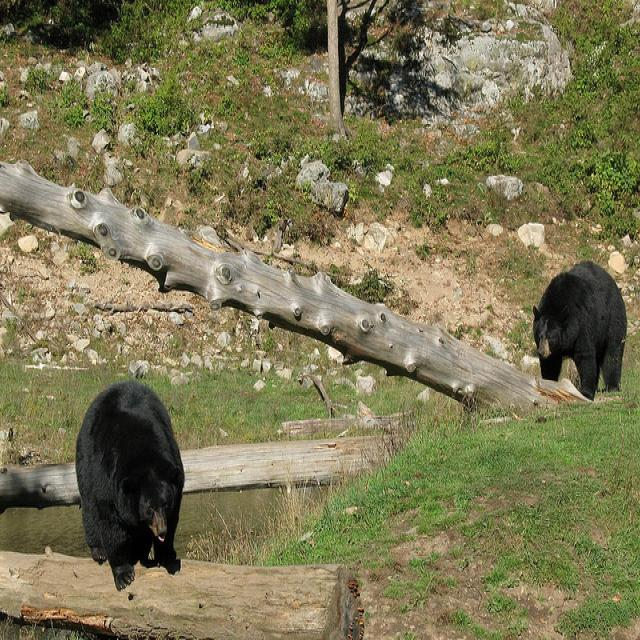Bear: (74, 380, 199, 590), (530, 252, 627, 397)
